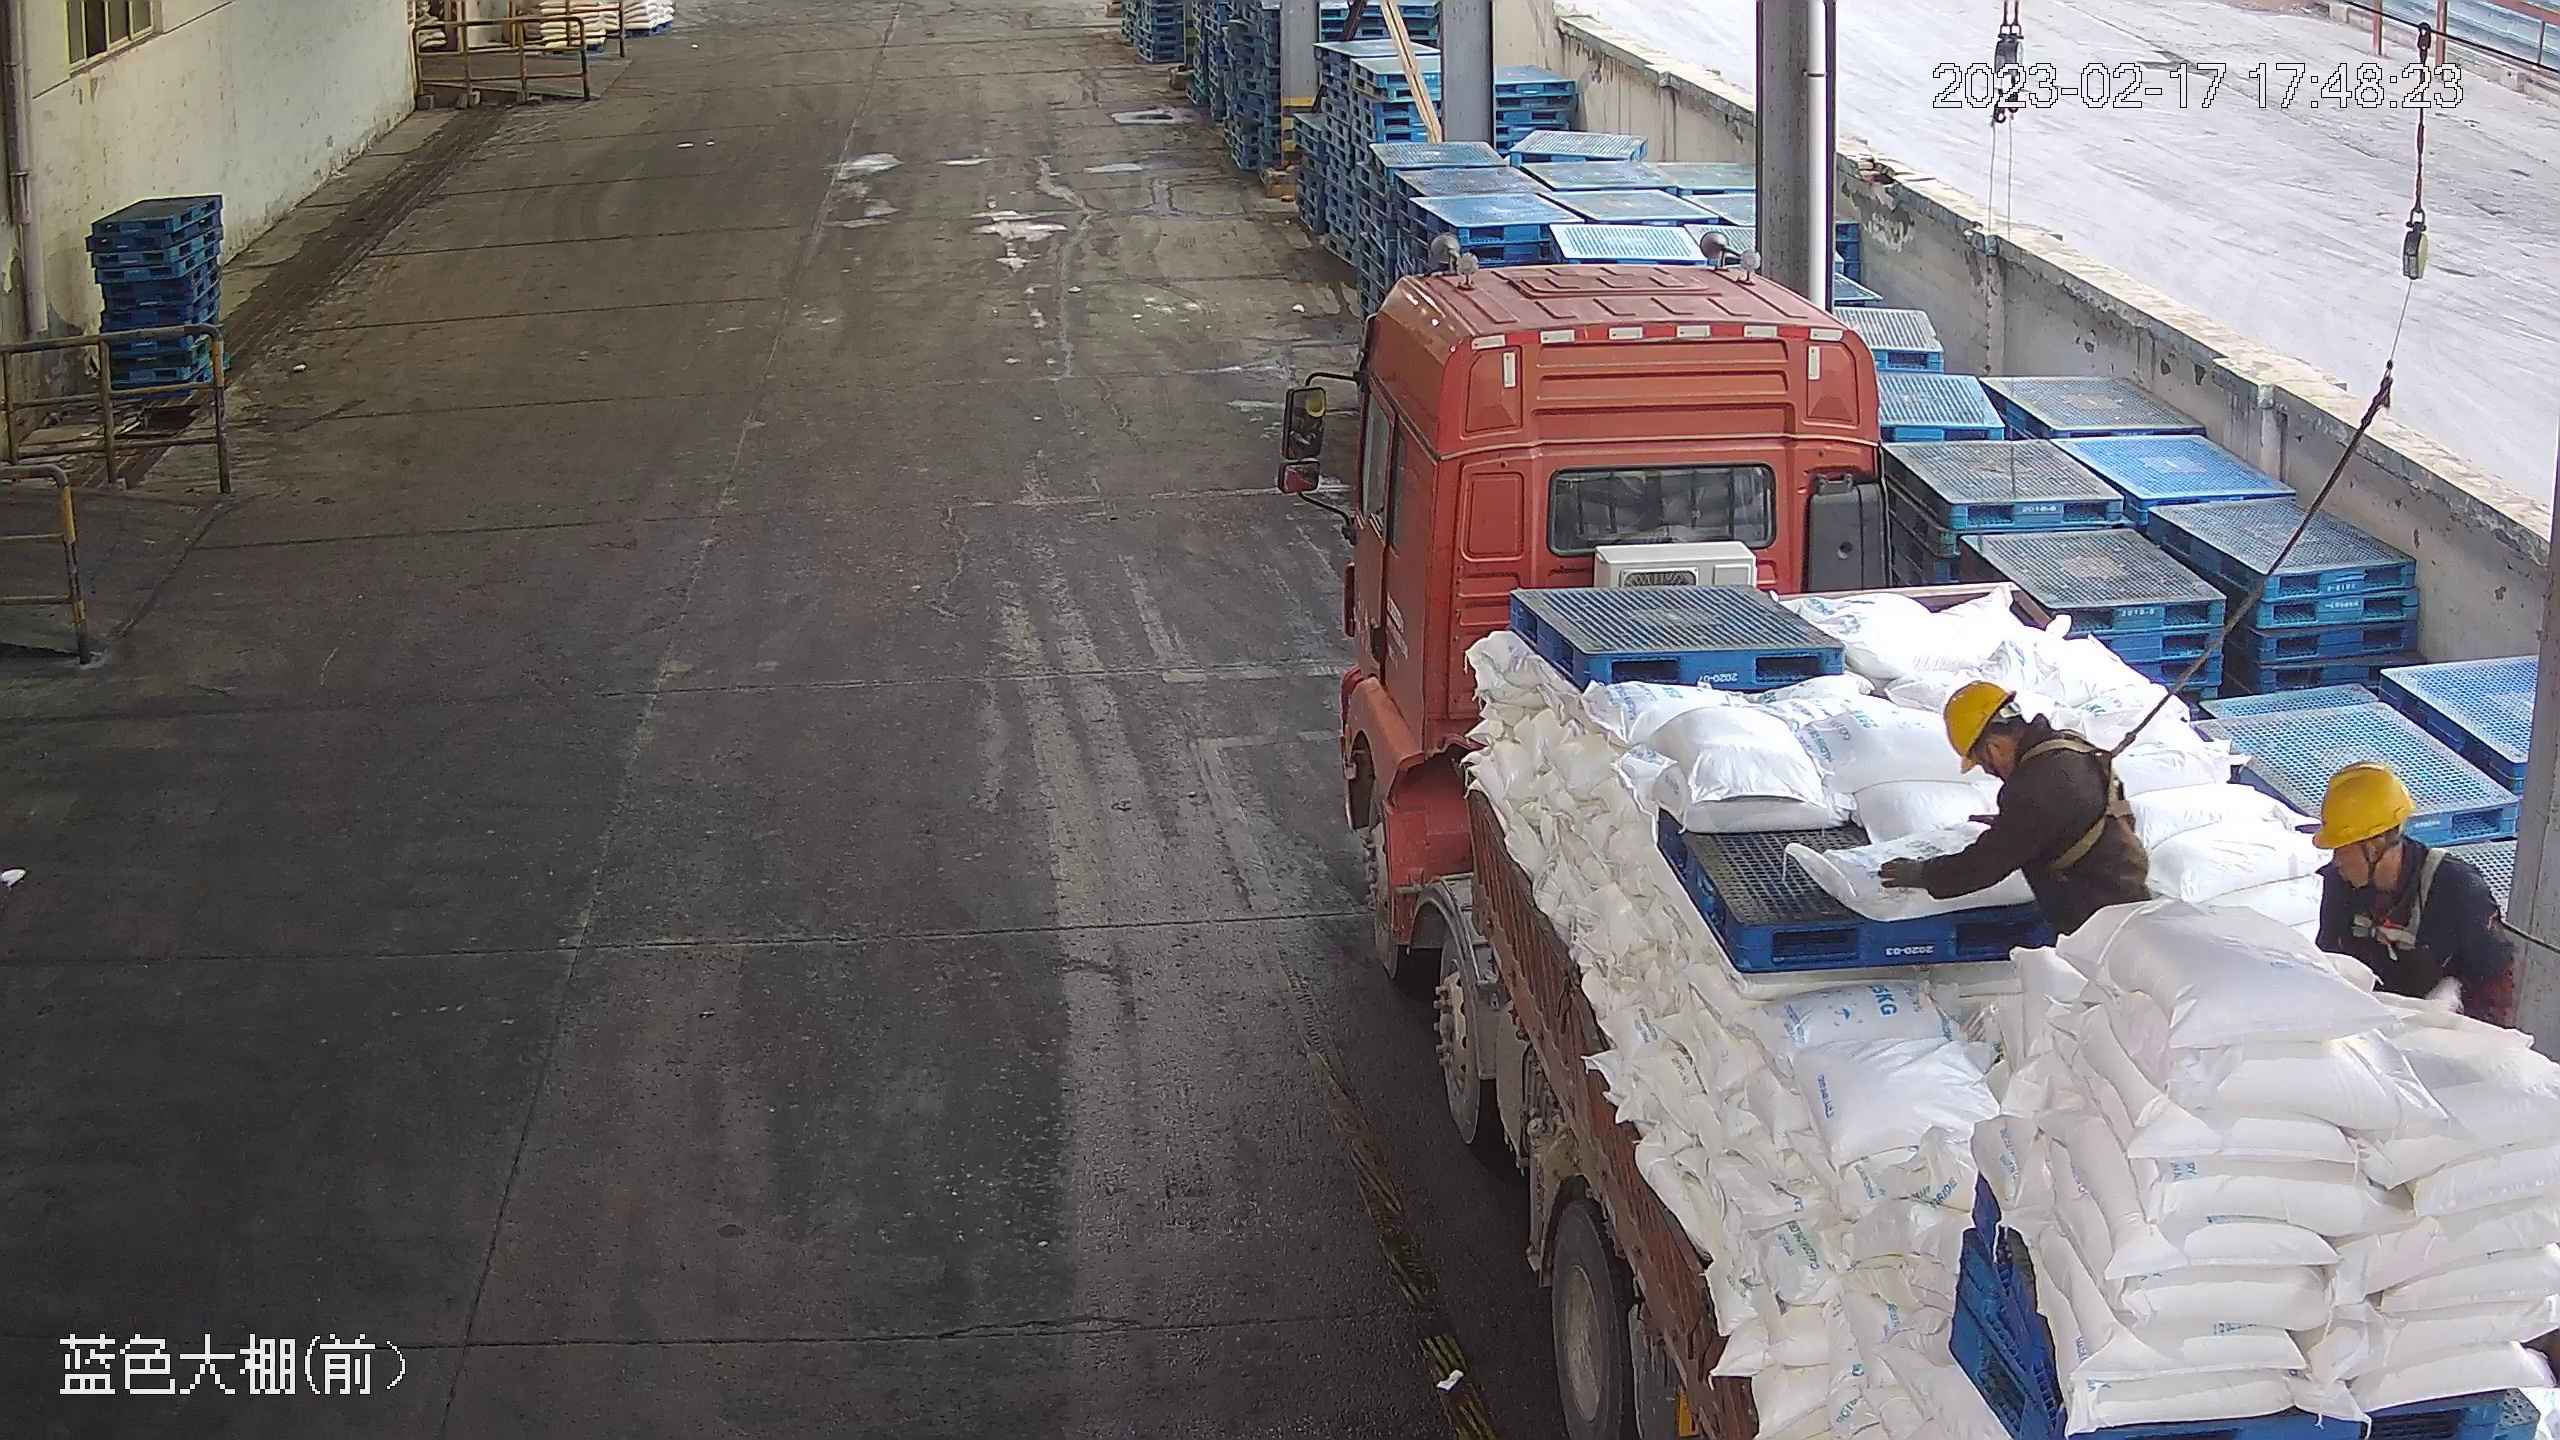belt: (2026, 716, 2134, 875), (2348, 847, 2458, 956)
head: (2307, 758, 2497, 944), (1937, 676, 2121, 833)
helmet: (2303, 757, 2422, 849), (1939, 675, 2014, 768)
truck: (1257, 234, 2560, 1440)
